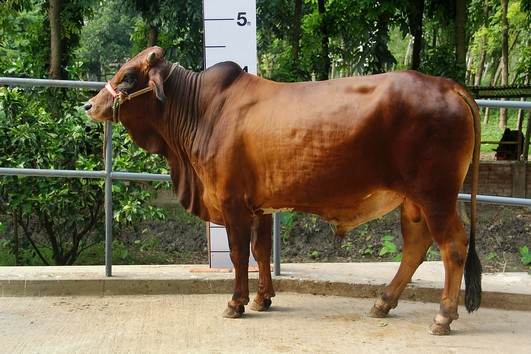cow: (79, 36, 487, 336)
